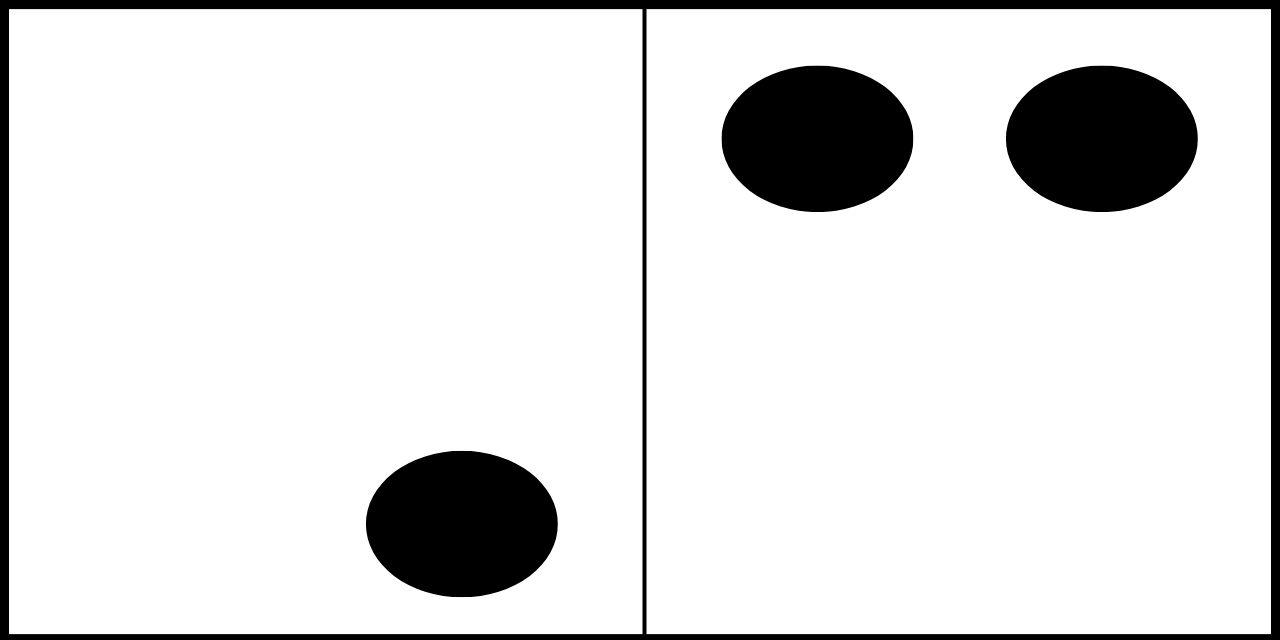capital_sign: (113, 60, 558, 597)
letter_C: (720, 64, 1199, 594)
